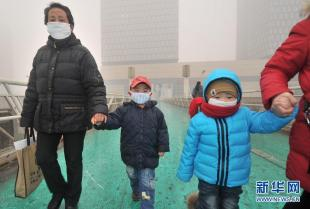mask: (207, 99, 245, 118), (42, 18, 72, 41), (128, 87, 151, 105)
